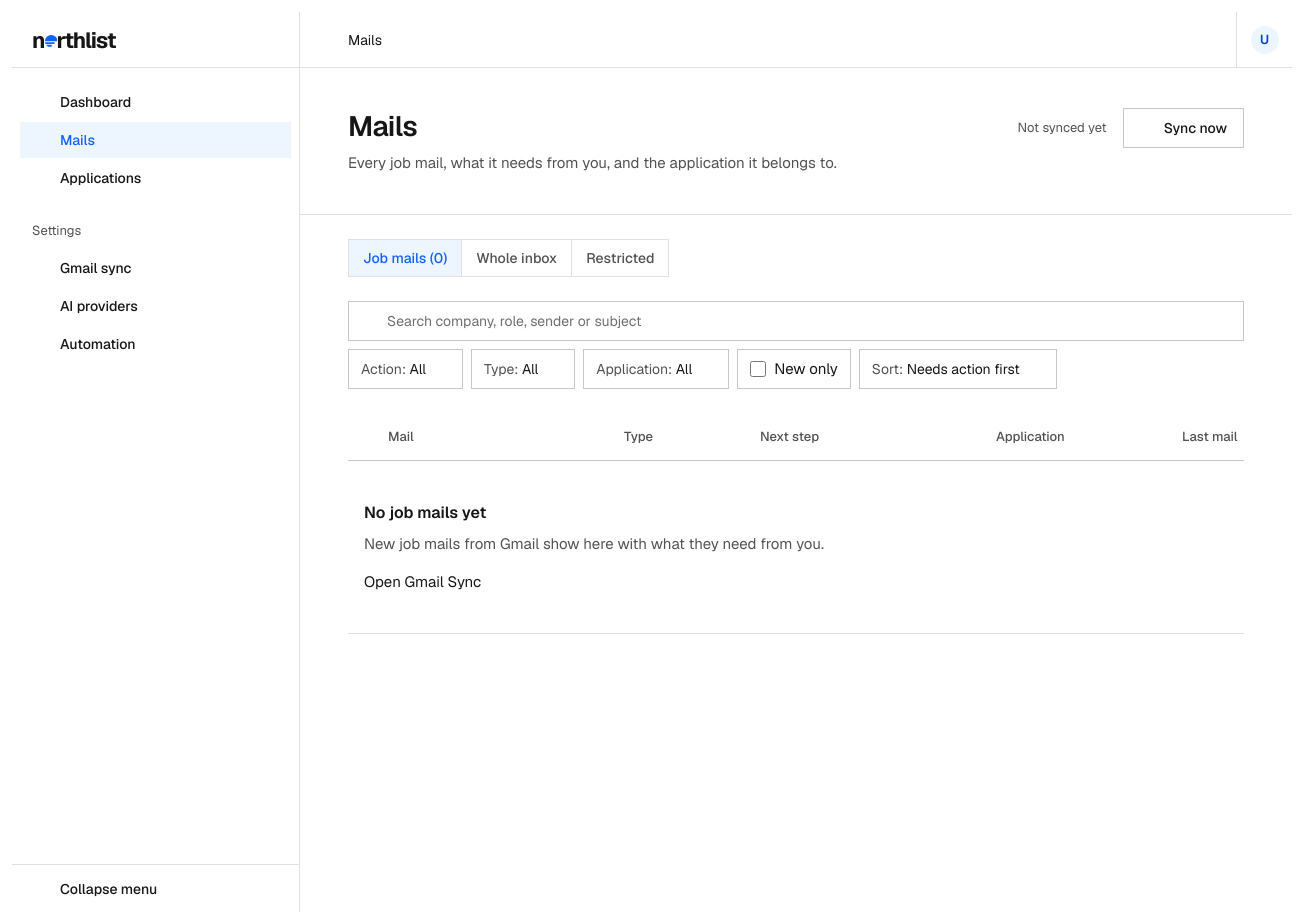
Test: Job mails tab › says so when there are no job mails yet, and when nothing matches
Expected: the text "No job mails yet" is shown, [364,501,486,525]
Click the checkbox labelled "New only" at (758, 369), box [750,361,766,377]
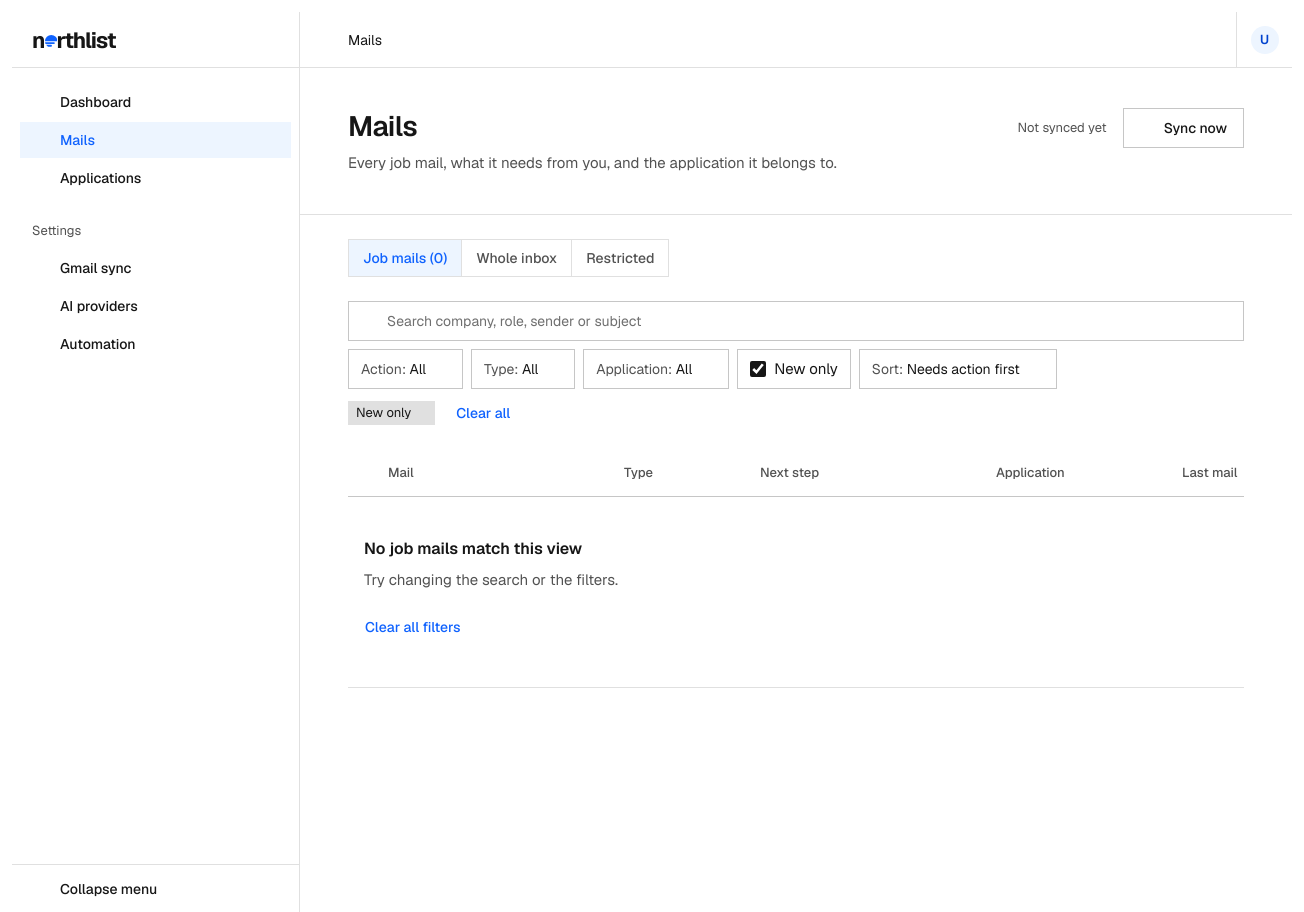
Now the text "No job mails match this view" is shown, box [364,537,582,561]
